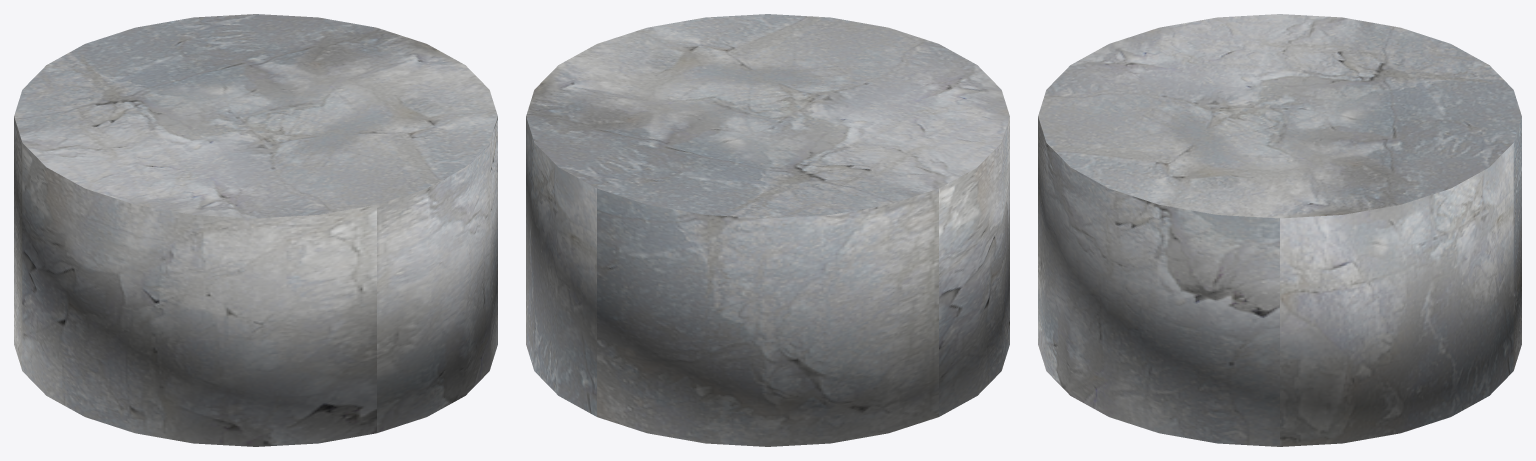
File: chamber.obj
3 views of the same model, side by side, from view 1: azimuth 30°, elevation 25°; view 2: azimuth 150°, elevation 25°; view 3: azimuth 270°, elevation 25° (orthographic).
Visible parts, largest first — view 1: Chamber_Circle.003; view 2: Chamber_Circle.003; view 3: Chamber_Circle.003.
Part boxes in pixels (x1,y1,x2,y2): Chamber_Circle.003: [14, 14, 497, 446]; Chamber_Circle.003: [526, 14, 1009, 446]; Chamber_Circle.003: [1038, 14, 1521, 446].
Bounding box in the file's own units: 16.31 × 8.5 × 16.31.
